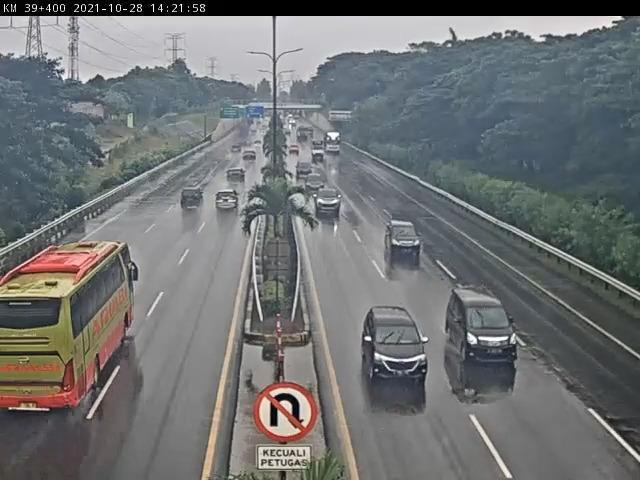bus: (1, 242, 133, 415)
car: (445, 286, 522, 365), (361, 306, 431, 385), (387, 219, 424, 260), (315, 187, 344, 216), (212, 188, 239, 215), (180, 187, 207, 213), (306, 175, 329, 200), (227, 166, 248, 185), (296, 160, 315, 180)
